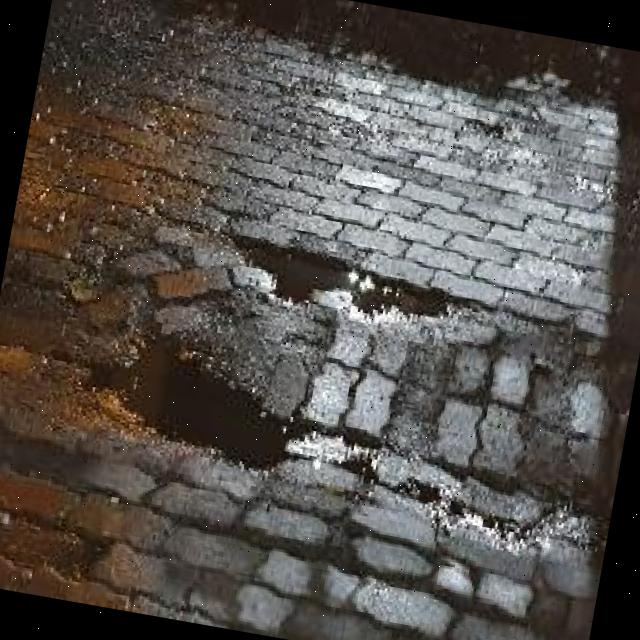stagnation: (59, 298, 340, 503), (186, 211, 521, 344)
